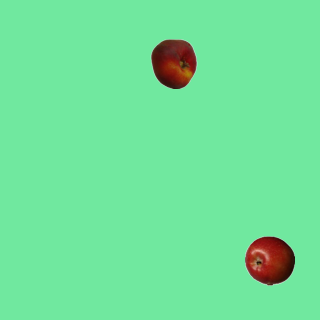Apple Braeburn: (244, 235, 294, 285)
Nectarine Flat: (148, 38, 198, 88)
